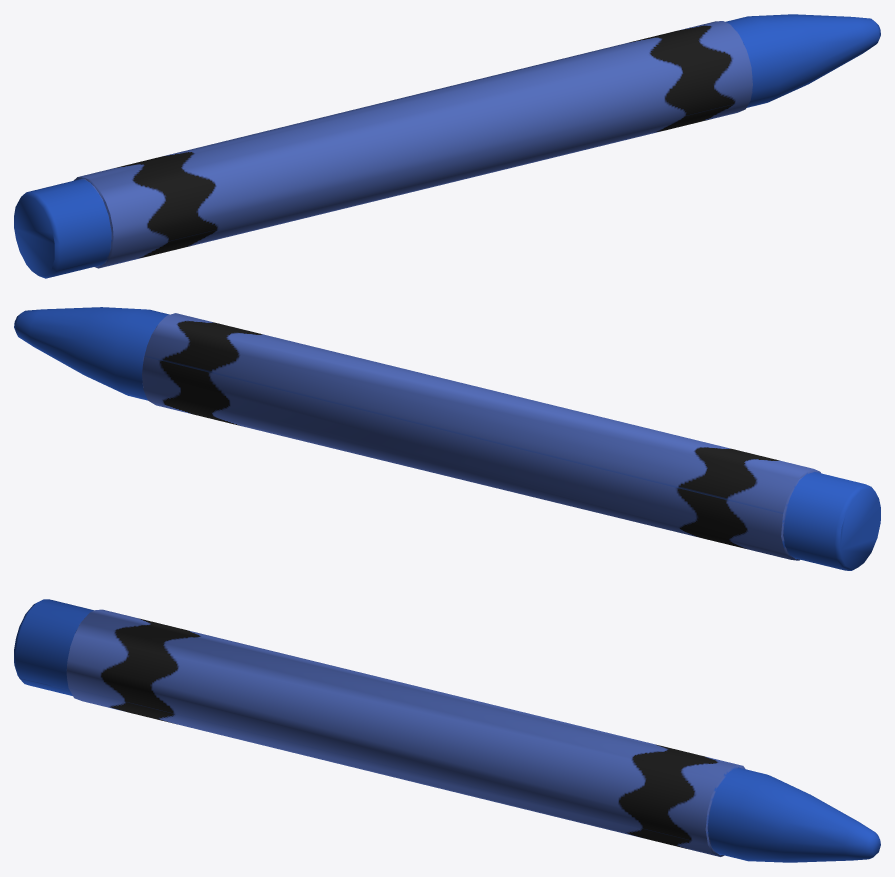
The model's file is BlueCrayon.glb.
The picture shows the model from 3 angles, top to bottom: view 1: azimuth 30°, elevation 25°; view 2: azimuth 150°, elevation 25°; view 3: azimuth 330°, elevation 25°; orthographic projection.
Visible parts, largest first — view 1: SM_CrayonBlue; view 2: SM_CrayonBlue; view 3: SM_CrayonBlue.
Boxes of the visible parts, box(x1,y1,x2,y2) form: SM_CrayonBlue: box(14, 14, 880, 278); SM_CrayonBlue: box(14, 307, 880, 570); SM_CrayonBlue: box(14, 599, 880, 862).
Bounding box in the file's own units: 0.092 × 0.00893 × 0.00896.
Materials: 1 (1 with a texture image).
